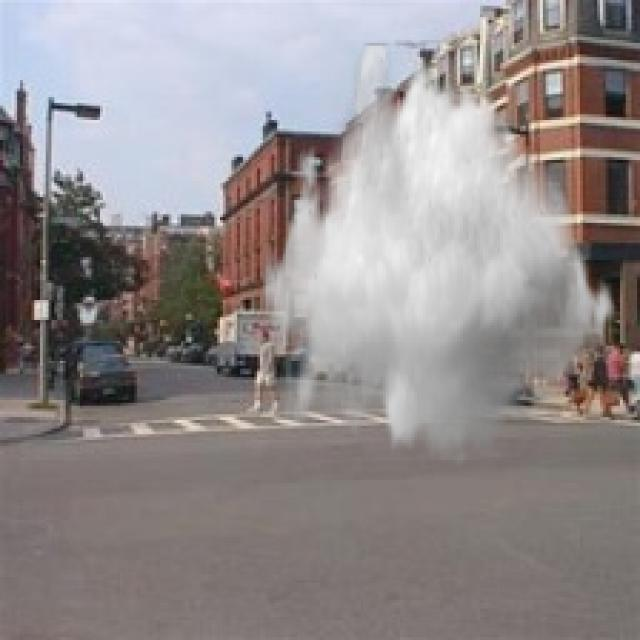smoke: (263, 43, 623, 466)
